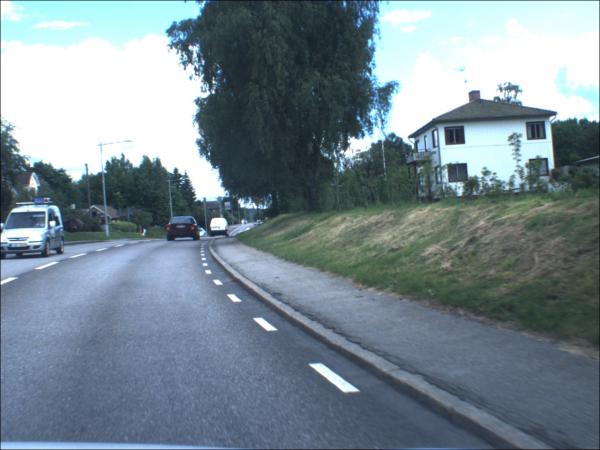PRIORITY_ROAD: (254, 198, 263, 206)
